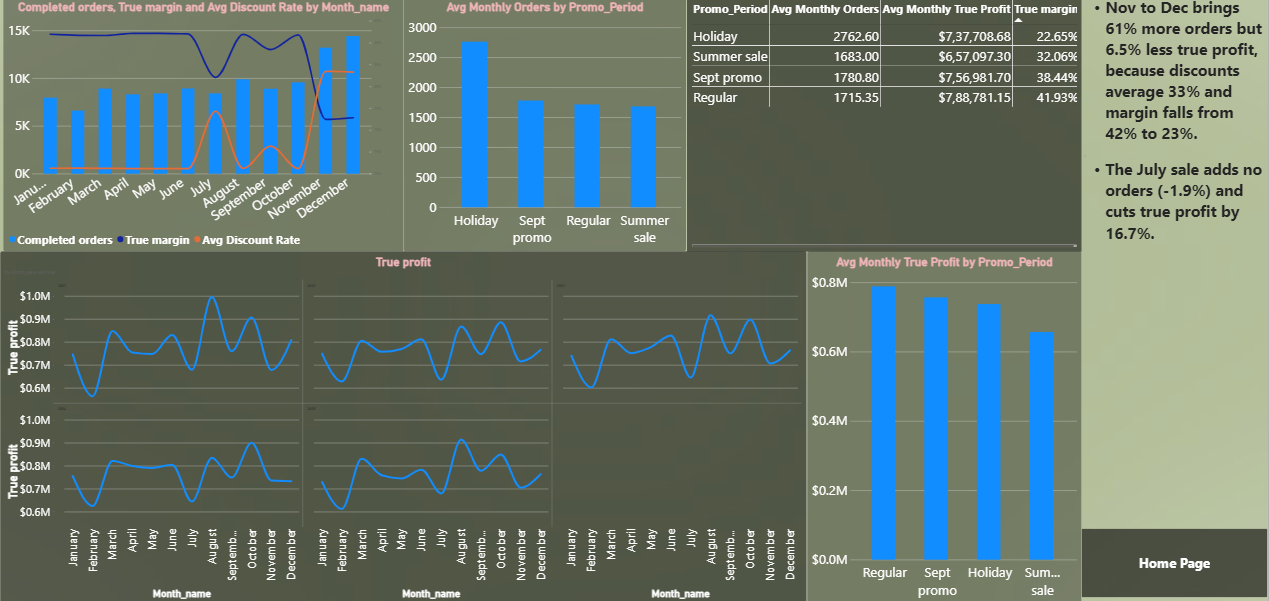

Layout of this report page (visuals, bound fields, positions):
{"tool":"powerbi","page":{"name":"Seasonality and Promotions","canvas":[4500,2160],"ordinal":2},"visuals":[{"type":"lineClusteredColumnComboChart","fields":{"Category":["Date_Dim.Month_name"],"Y":["Measures Table.Completed orders"],"Y2":["Measures Table.True margin","Measures Table.Avg Discount Rate"]},"box":[11.3,0,1423,907.1],"z":0},{"type":"clusteredColumnChart","fields":{"Category":["Date_Dim.Promo_Period"],"Y":["Measures Table.Avg Monthly Orders"]},"box":[1434.3,0,1003.5,907.1],"z":1000},{"type":"clusteredColumnChart","fields":{"Category":["Date_Dim.Promo_Period"],"Y":["Measures Table.Avg Monthly True Profit"]},"box":[2863,907.1,975.1,1252.9],"z":2000},{"type":"lineChart","fields":{"Category":["Date_Dim.Month_name"],"Rows":["Date_Dim.Year"],"Y":["Measures Table.True profit"]},"box":[0,907.1,2863,1252.9],"z":3000},{"type":"tableEx","fields":{"Values":["Date_Dim.Promo_Period","Measures Table.Avg Monthly Orders","Measures Table.Avg Monthly True Profit","Measures Table.True margin"]},"box":[2437.8,0,1400.3,907.1],"z":4000},{"type":"textbox","box":[3838.2,0,649.5,1889.8],"z":5000},{"type":"actionButton","box":[3838.2,1889.8,660.1,244.9],"z":5001}]}

Visuals, with their boxes in screenshot pixels (x1, y1, x2, y2), scaled from the page's 4500x2160 canvas onto the 1269x601 screenshot:
lineClusteredColumnComboChart - Date_Dim.Month_name x Measures Table.Completed orders: region(3, 0, 404, 252)
clusteredColumnChart - Date_Dim.Promo_Period x Measures Table.Avg Monthly Orders: region(404, 0, 687, 252)
clusteredColumnChart - Date_Dim.Promo_Period x Measures Table.Avg Monthly True Profit: region(807, 252, 1082, 600)
lineChart - Date_Dim.Month_name x Date_Dim.Year: region(0, 252, 807, 600)
tableEx - Date_Dim.Promo_Period x Measures Table.Avg Monthly Orders: region(687, 0, 1082, 252)
textbox: region(1082, 0, 1266, 526)
actionButton: region(1082, 526, 1268, 594)
